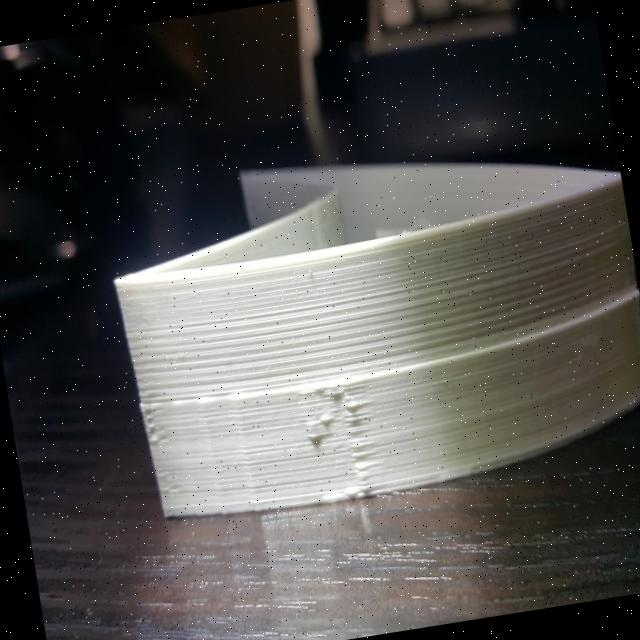blobs: (286, 372, 400, 514)
